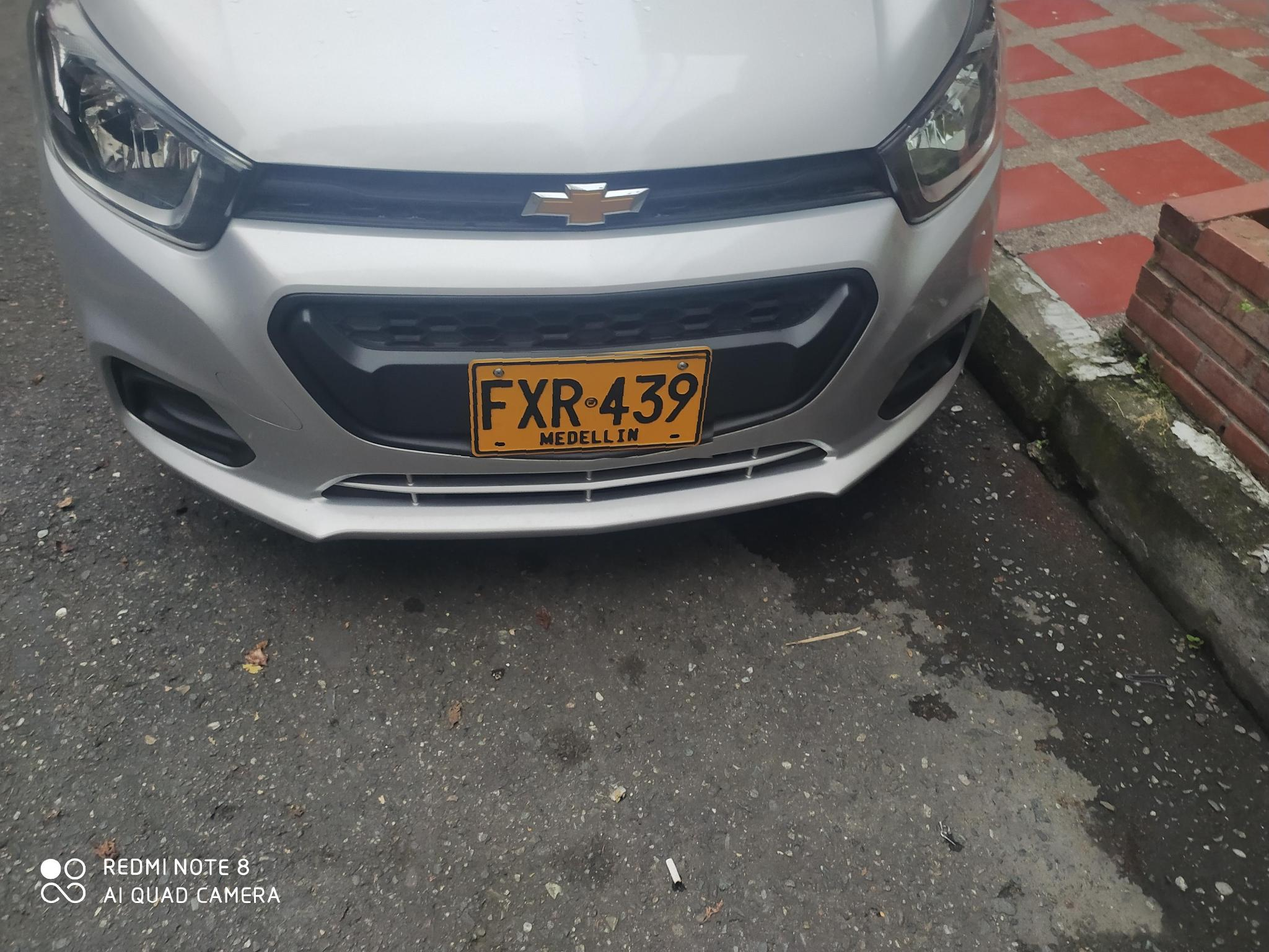placa: (461, 350, 718, 458)
